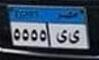5: (38, 29, 47, 43), (21, 29, 30, 43), (30, 29, 38, 43), (13, 28, 21, 41)
yaa: (68, 28, 80, 44), (56, 29, 67, 45)
